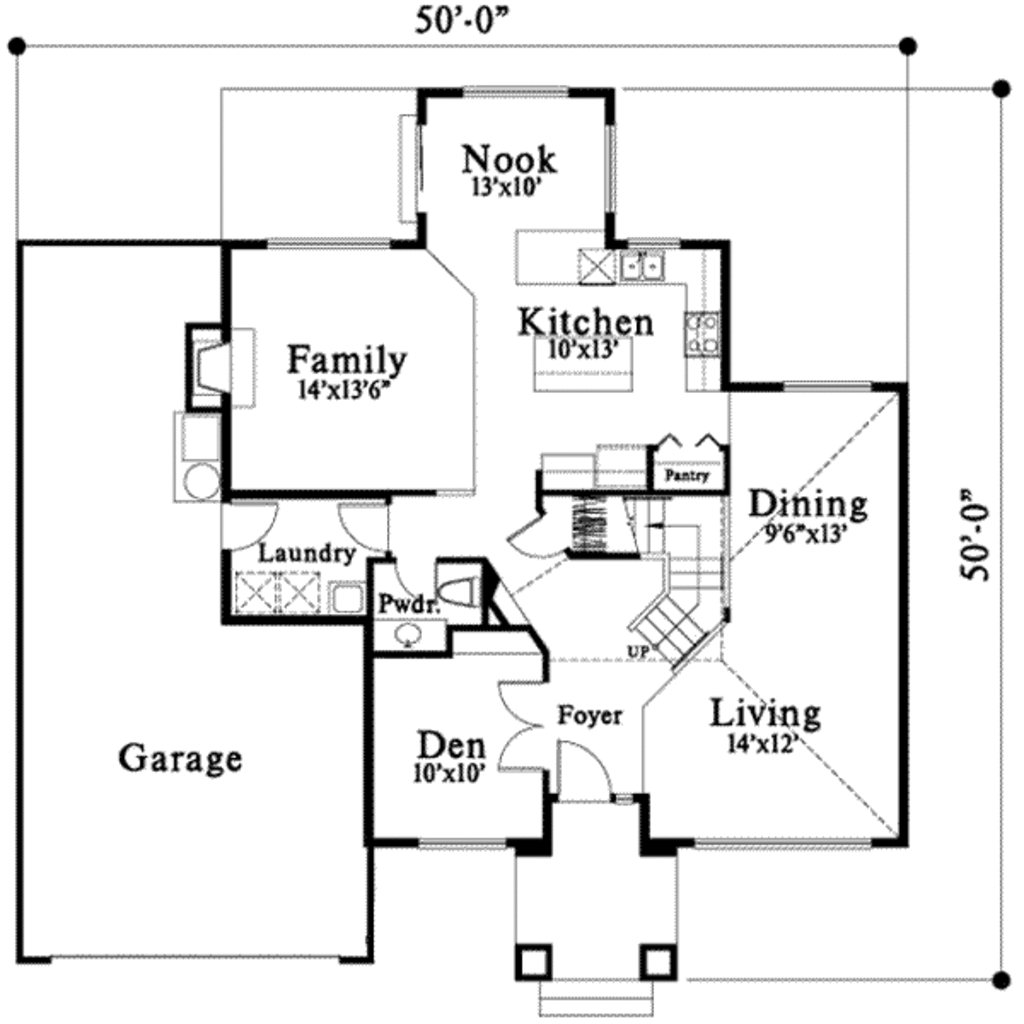door: (497, 668, 548, 774), (211, 495, 281, 552), (554, 736, 614, 801), (332, 493, 394, 551), (502, 508, 560, 565), (392, 563, 438, 609)
large_sink: (429, 565, 486, 616)
small_sink: (373, 611, 448, 652)
stairs: (587, 505, 743, 673)
twin_sink: (621, 251, 675, 282)
window: (694, 833, 879, 858), (267, 230, 400, 257), (457, 82, 570, 108), (598, 116, 627, 217), (411, 832, 505, 862), (778, 374, 875, 400)
